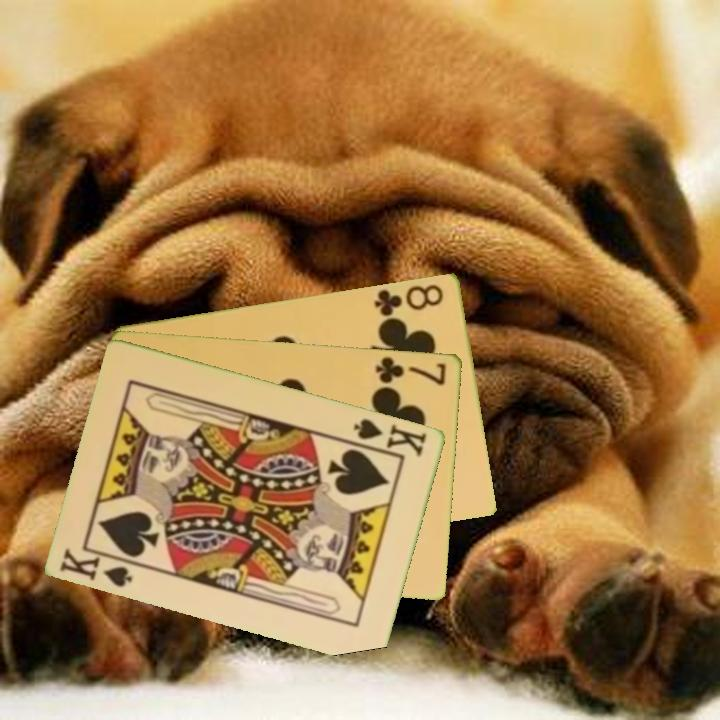7c: (372, 352, 450, 388)
8c: (371, 280, 447, 319)
Ks: (56, 544, 143, 590), (348, 414, 430, 459)
